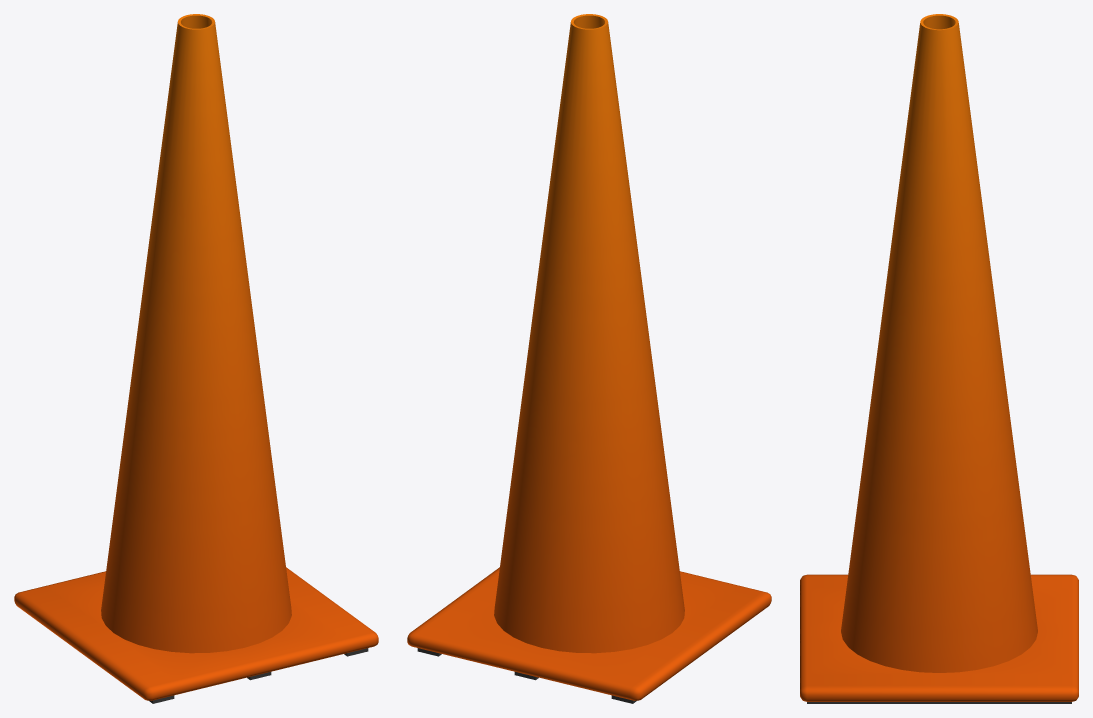
File: cone_large.glb
3 views of the same model, side by side, from view 1: azimuth 30°, elevation 25°; view 2: azimuth 150°, elevation 25°; view 3: azimuth 270°, elevation 25° (orthographic). The views are drawn at different scales.
Parts seen in each view (by area): view 1: cone_large; view 2: cone_large; view 3: cone_large.
Boxes of the visible parts, left/top/right/bottom form: cone_large: left=14, top=14, right=378, bottom=703; cone_large: left=407, top=14, right=771, bottom=703; cone_large: left=800, top=14, right=1078, bottom=703.
Bounding box in the file's own units: 0.3683 × 0.9144 × 0.3683.
1 material, 1 textured.
